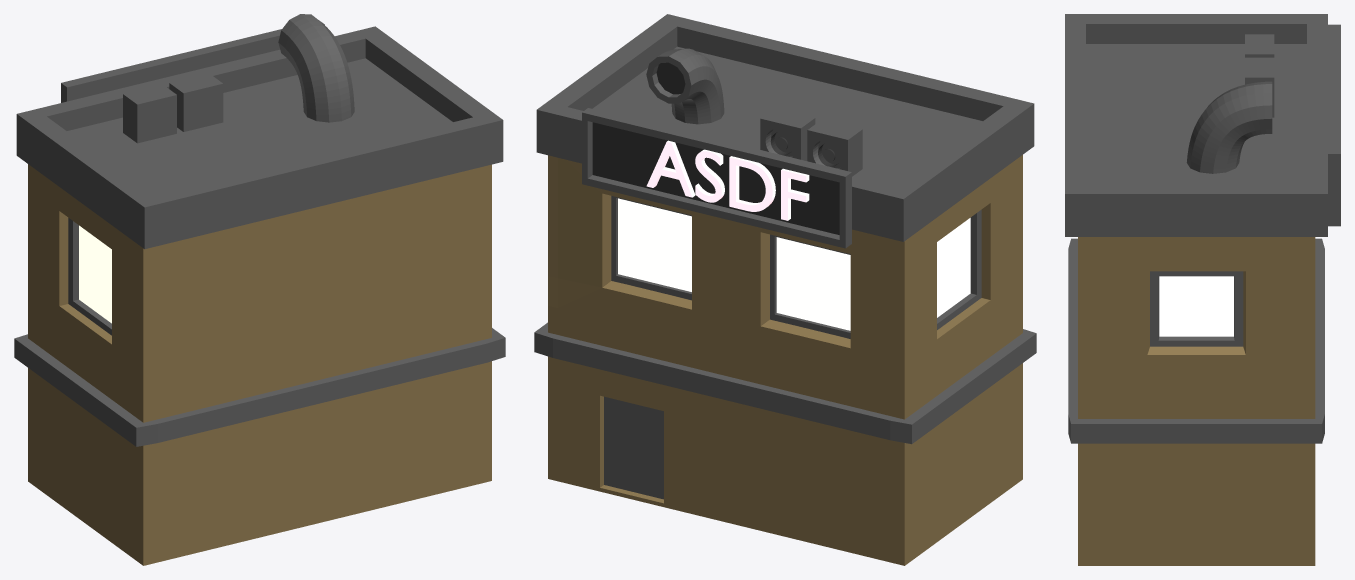
Rendered from house3.fbx.
3 views of the same model, side by side, from view 1: azimuth 30°, elevation 25°; view 2: azimuth 150°, elevation 25°; view 3: azimuth 270°, elevation 25° (orthographic). The views are drawn at different scales.
Parts seen in each view (by area): view 1: Cube.003; view 2: Cube.003; view 3: Cube.003.
Boxes of the visible parts, x1,y1,x2,y2 form: Cube.003: [14, 14, 505, 565]; Cube.003: [534, 14, 1036, 565]; Cube.003: [1065, 14, 1340, 565].
Size of the model in its own units: 502 by 547 by 315.
